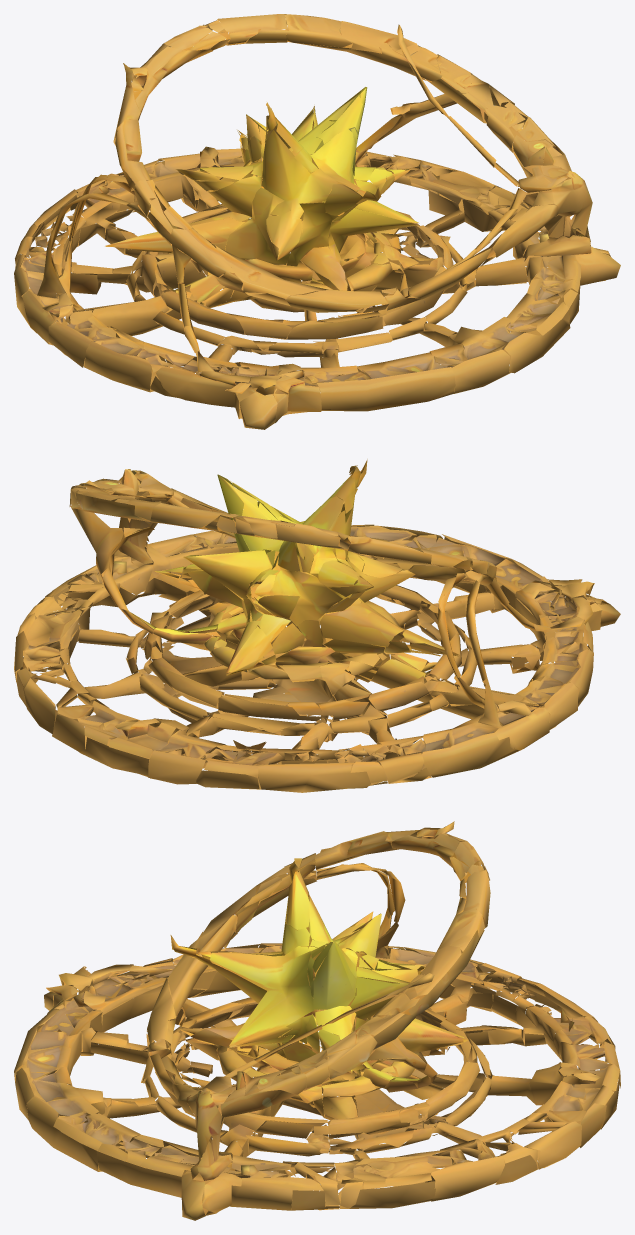
Rendered from TripoSolarisCore.fbx.
The picture shows the model from 3 angles, top to bottom: view 1: azimuth 30°, elevation 25°; view 2: azimuth 150°, elevation 25°; view 3: azimuth 270°, elevation 25°; orthographic projection. The views are drawn at different scales.
Visible parts, largest first — view 1: TripoSolarisCore; view 2: TripoSolarisCore; view 3: TripoSolarisCore.
Part boxes in pixels (x1=…): TripoSolarisCore: x1=14, y1=14, x2=620, y2=429; TripoSolarisCore: x1=14, y1=459, x2=620, y2=792; TripoSolarisCore: x1=14, y1=821, x2=620, y2=1220.
Bounding box in the file's own units: 5.27 × 5.31 × 2.2.
1 material, 1 textured.
